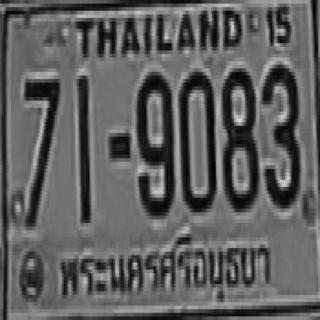N00: (178, 68, 214, 209)
N01: (77, 72, 88, 219)
N03: (262, 61, 298, 205)
N07: (24, 76, 59, 223)
N08: (221, 65, 256, 209)
N09: (136, 68, 173, 212)
